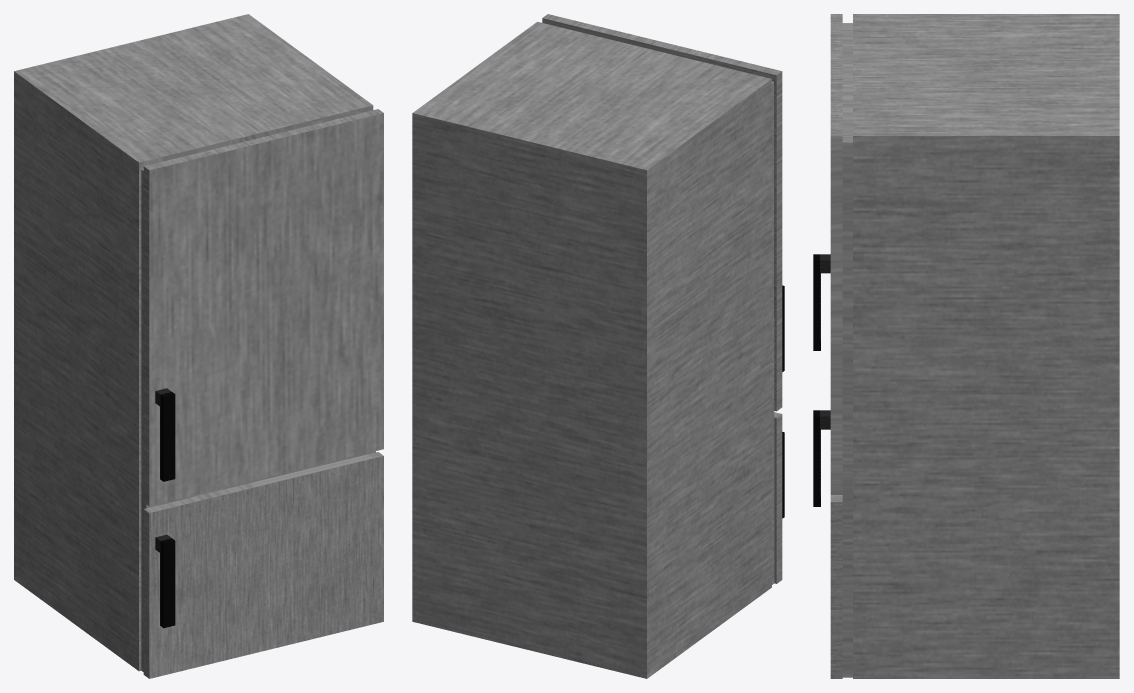
The model's file is fridge.fbx.
3 views of the same model, side by side, from view 1: azimuth 30°, elevation 25°; view 2: azimuth 150°, elevation 25°; view 3: azimuth 270°, elevation 25° (orthographic). The views are drawn at different scales.
Visible parts, largest first — view 1: Fridge; view 2: Fridge; view 3: Fridge.
Part boxes in pixels (<box>): Fridge: <box>14,14,383,678</box>; Fridge: <box>412,14,784,678</box>; Fridge: <box>813,14,1119,678</box>.
Size of the model in its own units: 106 by 100 by 207.
